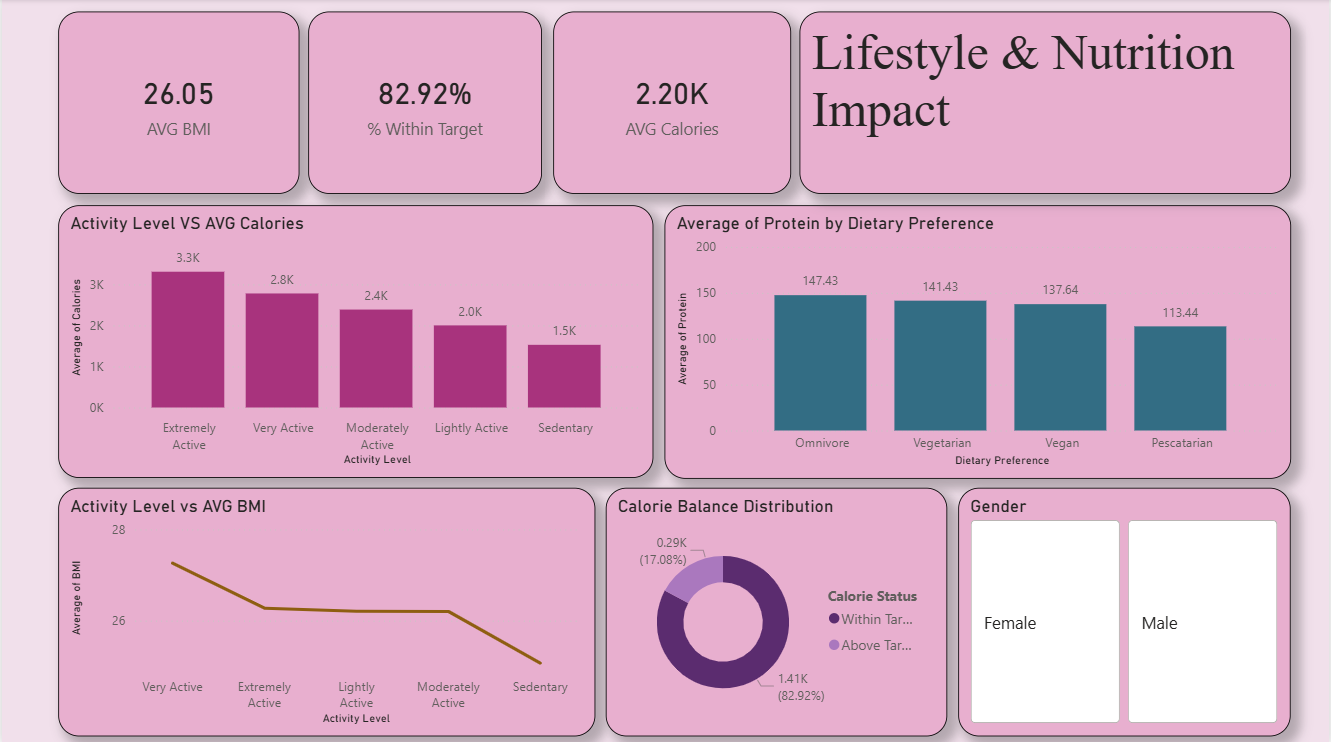

This screenshot's page, from the dashboard's own definition file:
{"tool":"powerbi","page":{"name":"lifestyle&nutrients","canvas":[1280,720],"ordinal":3},"visuals":[{"type":"card","fields":{"Values":["Food_and_Nutrition__.AVG BMI"]},"box":[54.3,12.1,232.8,176.1],"z":0},{"type":"card","fields":{"Values":["Food_and_Nutrition__.% Within Target"]},"box":[295.6,12.1,225.6,176.1],"z":1000},{"type":"card","fields":{"Values":["Food_and_Nutrition__.AVG Calories"]},"box":[532,12.1,229.2,176.1],"z":2000},{"type":"clusteredColumnChart","title":"Activity Level VS AVG Calories","fields":{"Category":["Food_and_Nutrition__.Activity Level"],"Y":["Avg(Food_and_Nutrition__.Calories)"]},"box":[54.3,199.1,574.3,263],"z":3000},{"type":"clusteredColumnChart","fields":{"Category":["Food_and_Nutrition__.Dietary Preference"],"Y":["Avg(Food_and_Nutrition__.Protein)"]},"box":[639.4,199.1,604.4,264.2],"z":4000},{"type":"lineChart","title":"Activity Level vs AVG BMI","fields":{"Category":["Food_and_Nutrition__.Activity Level"],"Y":["Avg(Food_and_Nutrition__.BMI)"]},"box":[54.3,471.7,518.8,240.1],"z":5000},{"type":"donutChart","title":"Calorie Balance Distribution","fields":{"Category":["Food_and_Nutrition__.Calorie Status"],"Y":["CountNonNull(Food_and_Nutrition__.Calorie Status)"]},"box":[582.7,471.7,329.4,240.1],"z":6000},{"type":"advancedSlicerVisual","fields":{"Values":["Food_and_Nutrition__.Gender"]},"box":[922.9,471.7,320.9,240.1],"z":7000},{"type":"textbox","box":[769.7,12.1,474.1,176.1],"z":8000}]}

Visuals, with their boxes in screenshot pixels (x1, y1, x2, y2), scaled from the page's 1280x720 canvas onto the 1331x742 screenshot:
card - Food_and_Nutrition__.AVG BMI: <box>56,12,299,194</box>
card - Food_and_Nutrition__.% Within Target: <box>307,12,542,194</box>
card - Food_and_Nutrition__.AVG Calories: <box>553,12,792,194</box>
"Activity Level VS AVG Calories" clusteredColumnChart: <box>56,205,654,476</box>
clusteredColumnChart - Food_and_Nutrition__.Dietary Preference x Avg(Food_and_Nutrition__.Protein): <box>665,205,1293,477</box>
"Activity Level vs AVG BMI" lineChart: <box>56,486,596,734</box>
"Calorie Balance Distribution" donutChart: <box>606,486,948,734</box>
advancedSlicerVisual - Food_and_Nutrition__.Gender: <box>960,486,1293,734</box>
textbox: <box>800,12,1293,194</box>
